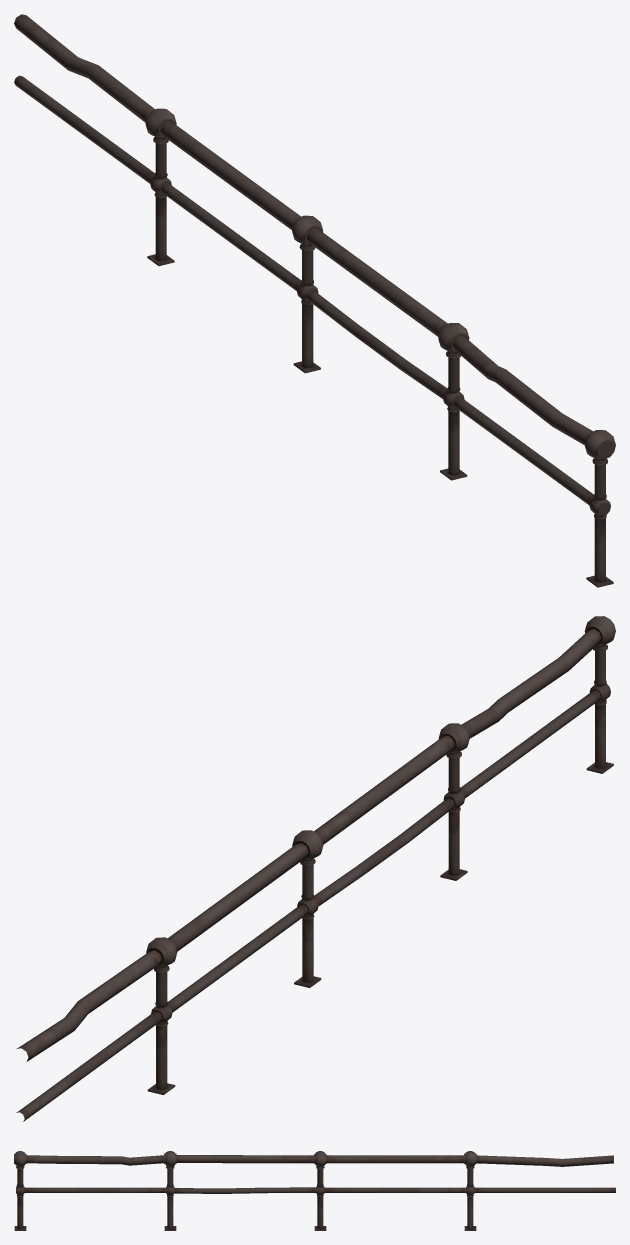
3 renders of one model, top to bottom at view 1: azimuth 30°, elevation 25°; view 2: azimuth 150°, elevation 25°; view 3: azimuth 270°, elevation 25°, orthographic. The views are drawn at different scales.
Parts seen in each view (by area): view 1: body0_model0_lod0_mesh0; view 2: body0_model0_lod0_mesh0; view 3: body0_model0_lod0_mesh0.
Boxes of the visible parts, bbox=[...] form: body0_model0_lod0_mesh0: bbox=[14, 14, 615, 587]; body0_model0_lod0_mesh0: bbox=[16, 616, 615, 1121]; body0_model0_lod0_mesh0: bbox=[14, 1151, 615, 1230].
Bounding box in the file's own units: 6.83 × 36.34 × 257.
Materials: 1 (1 with a texture image).
